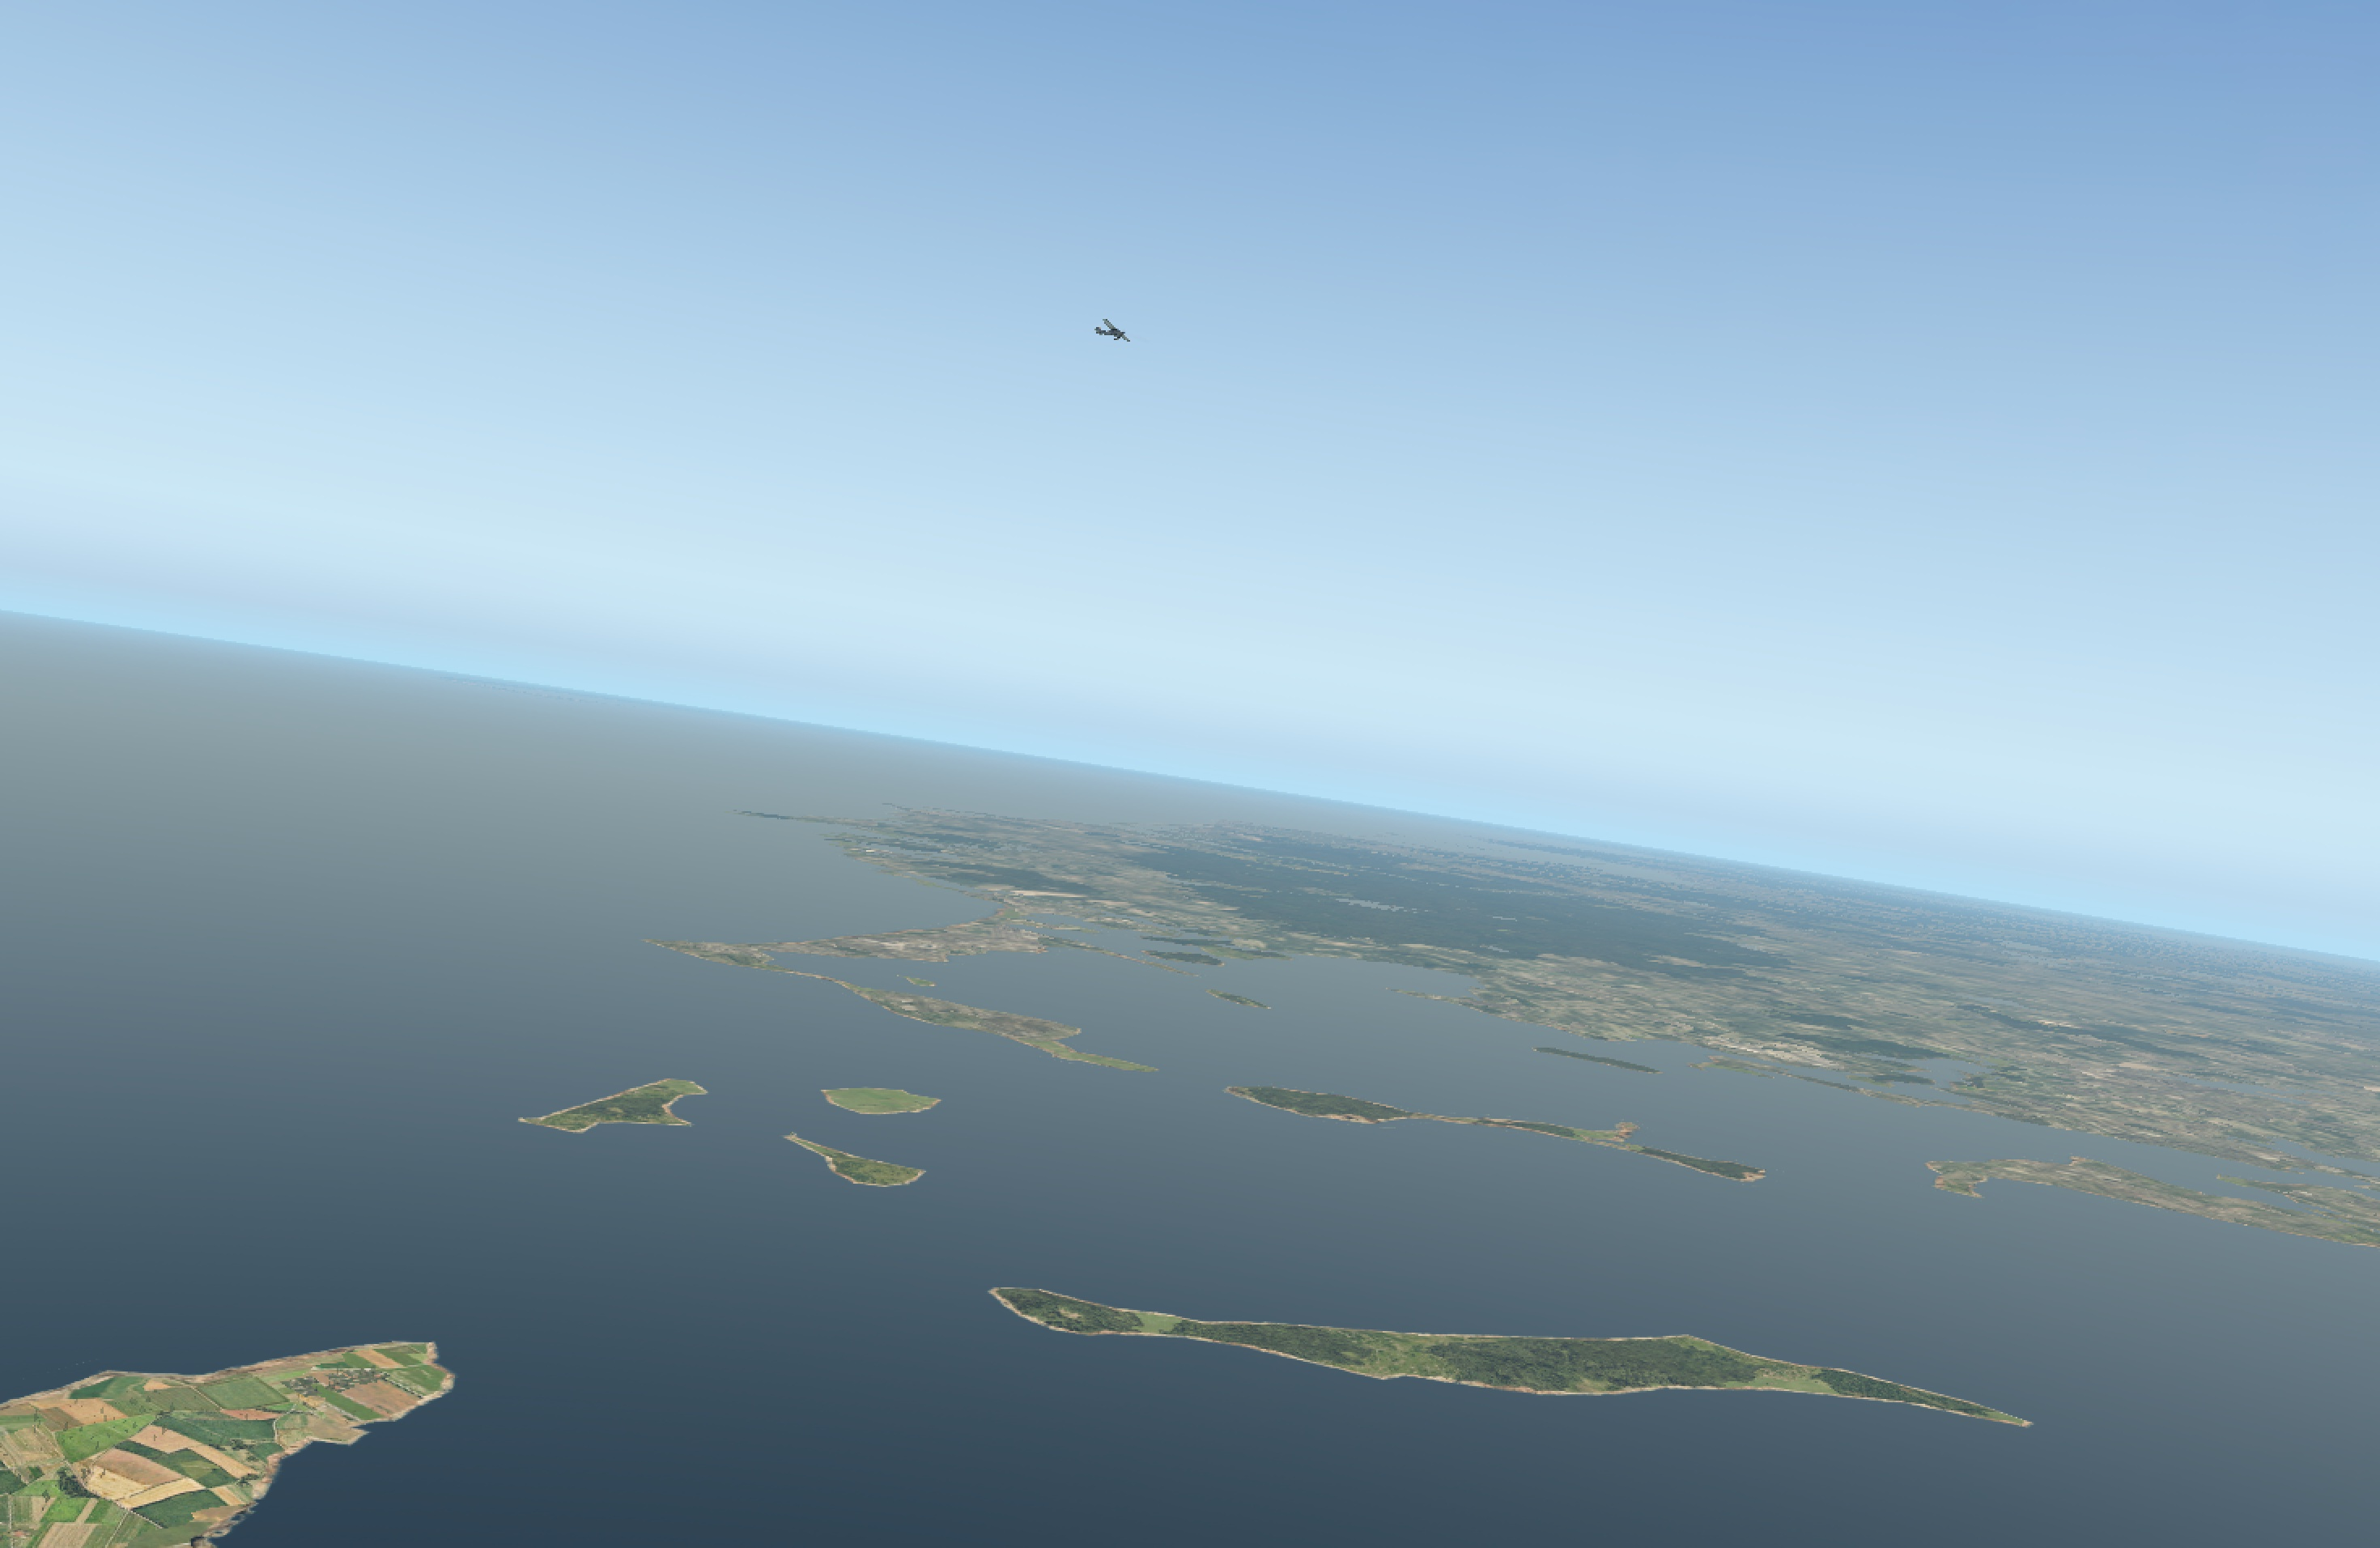aircraft: (1098, 326, 1133, 338)
